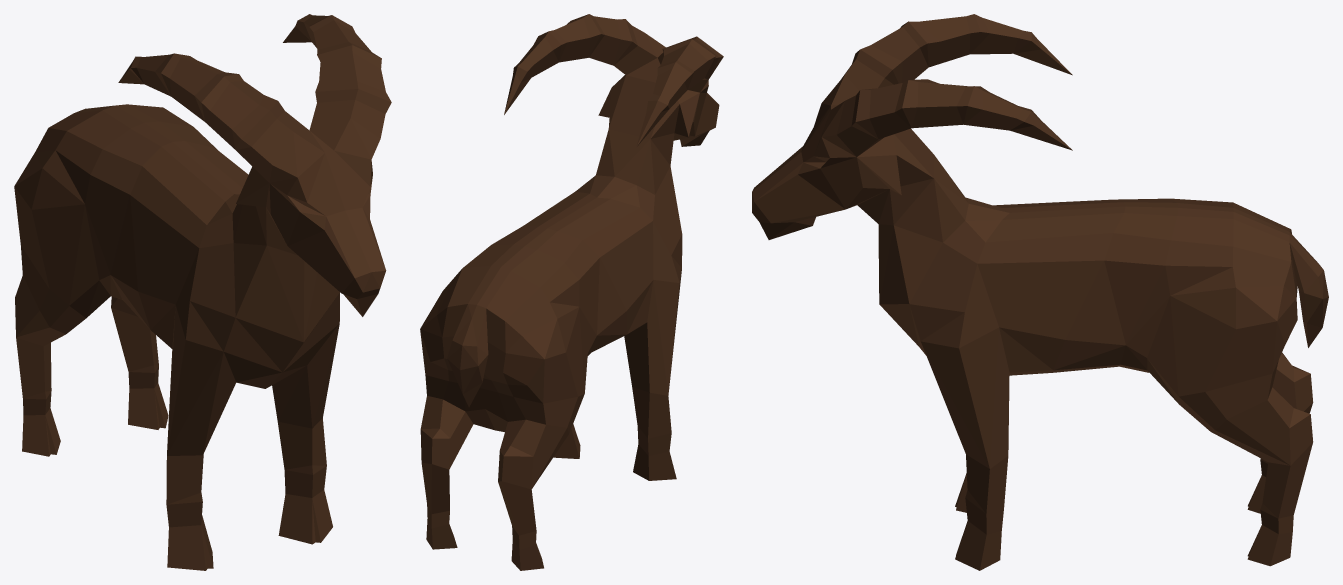
The model's file is Ram.FBX.
The picture shows the model from 3 angles, left to right: view 1: azimuth 30°, elevation 25°; view 2: azimuth 150°, elevation 25°; view 3: azimuth 270°, elevation 25°; orthographic projection. The views are drawn at different scales.
Visible parts, largest first — view 1: Ram; view 2: Ram; view 3: Ram.
Part boxes in pixels (bbox=[...]): Ram: bbox=[14, 14, 391, 570]; Ram: bbox=[420, 14, 723, 570]; Ram: bbox=[752, 14, 1328, 570].
Bounding box in the file's own units: 68.51 × 176 × 191.
